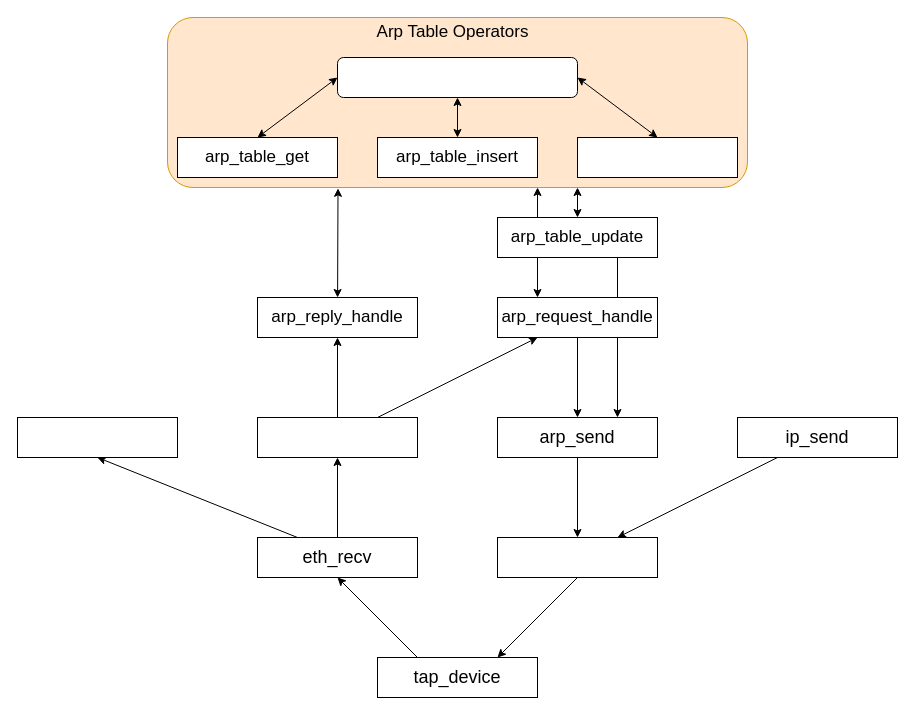
Some shapes in this 915 by 715 pixel diagram are drawn without their labels. Each missing label, with the centre of its shape:
arp_recv: the point at 337,437
arp_table_delete: the point at 657,157
eth_send: the point at 577,557
ip_recv: the point at 97,437
net_device/arp_table: the point at 457,77
